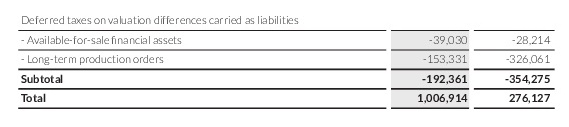table: (0, 0, 569, 127)
